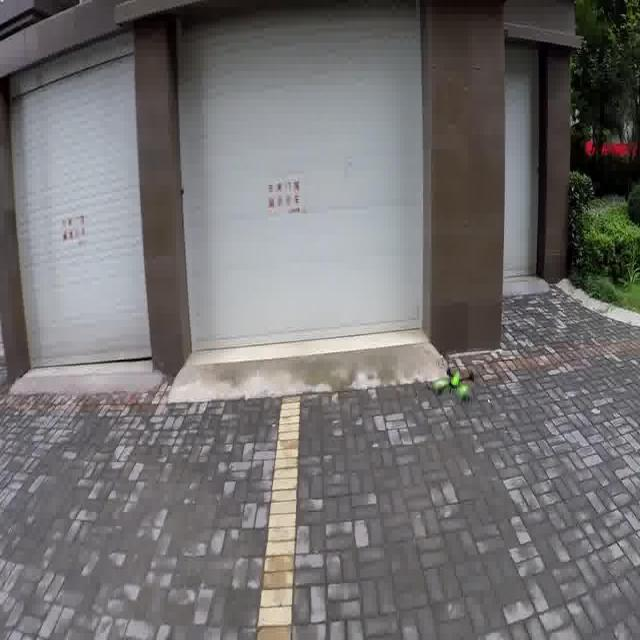drone: (425, 354, 485, 413)
